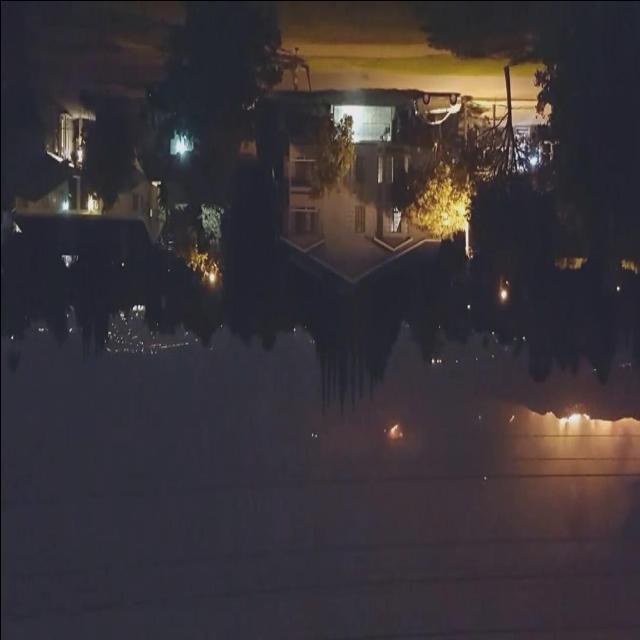Fire: (552, 410, 638, 432), (389, 422, 402, 439), (508, 413, 514, 422)
